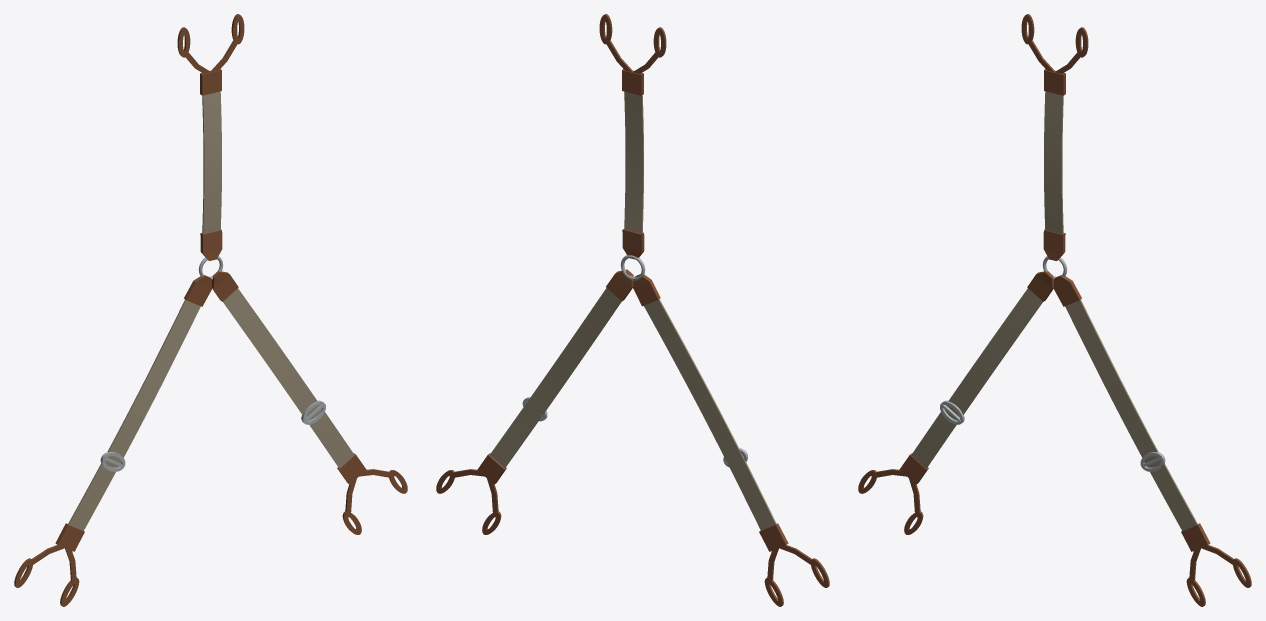
The picture shows the model from 3 angles, left to right: view 1: azimuth 30°, elevation 25°; view 2: azimuth 150°, elevation 25°; view 3: azimuth 330°, elevation 25°; orthographic projection.
Visible parts, largest first — view 1: Left_Shoulder_Webbing, Right_Shoulder_Webbing, Rear_Webbing, Left_Junction_Leather_Seat, Rear_Junction_Leather_Seat, Right_Junction_Leather_Seat; view 2: Left_Shoulder_Webbing, Right_Shoulder_Webbing, Rear_Webbing, Left_Junction_Leather_Seat, Right_Junction_Leather_Seat, Rear_Junction_Leather_Seat; view 3: Right_Shoulder_Webbing, Left_Shoulder_Webbing, Rear_Webbing, Right_Junction_Leather_Seat, Rear_Junction_Leather_Seat, Left_Junction_Leather_Seat.
Part boxes in pixels (box(x1,y1,x2,y2)): Left_Shoulder_Webbing: box(68, 299, 200, 530); Right_Shoulder_Webbing: box(223, 288, 354, 468); Rear_Webbing: box(202, 91, 221, 234); Left_Junction_Leather_Seat: box(184, 275, 211, 306); Rear_Junction_Leather_Seat: box(200, 229, 222, 260); Right_Junction_Leather_Seat: box(212, 271, 238, 301); Left_Shoulder_Webbing: box(644, 299, 776, 530); Right_Shoulder_Webbing: box(490, 288, 621, 467); Rear_Webbing: box(624, 91, 643, 233); Left_Junction_Leather_Seat: box(633, 274, 660, 306); Right_Junction_Leather_Seat: box(606, 269, 633, 301); Rear_Junction_Leather_Seat: box(622, 229, 644, 259); Right_Shoulder_Webbing: box(1065, 299, 1197, 530); Left_Shoulder_Webbing: box(911, 288, 1042, 468); Rear_Webbing: box(1044, 91, 1063, 234); Right_Junction_Leather_Seat: box(1054, 275, 1081, 306); Rear_Junction_Leather_Seat: box(1043, 229, 1065, 260); Left_Junction_Leather_Seat: box(1027, 271, 1053, 301).
Bounding box in the file's own units: 0.7531 × 1.01 × 0.016.
